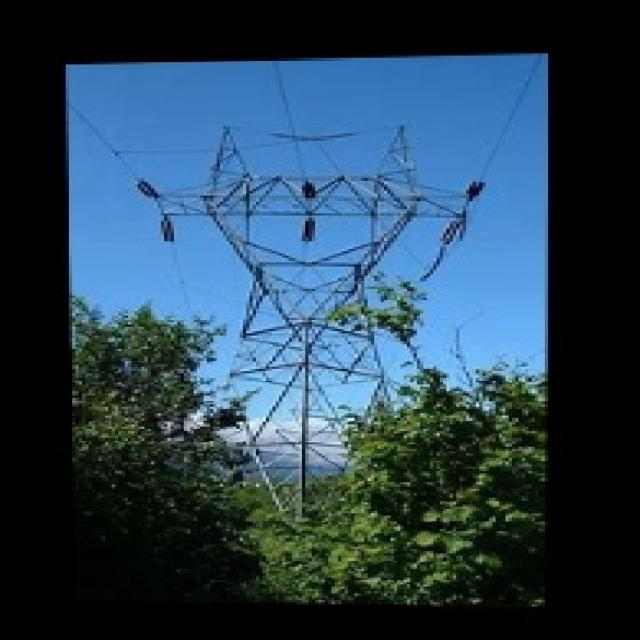utility poles: (326, 289, 509, 479), (144, 292, 288, 467)
